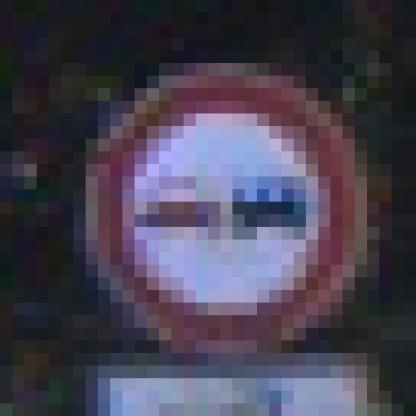No Overtaking: (74, 64, 356, 354)
